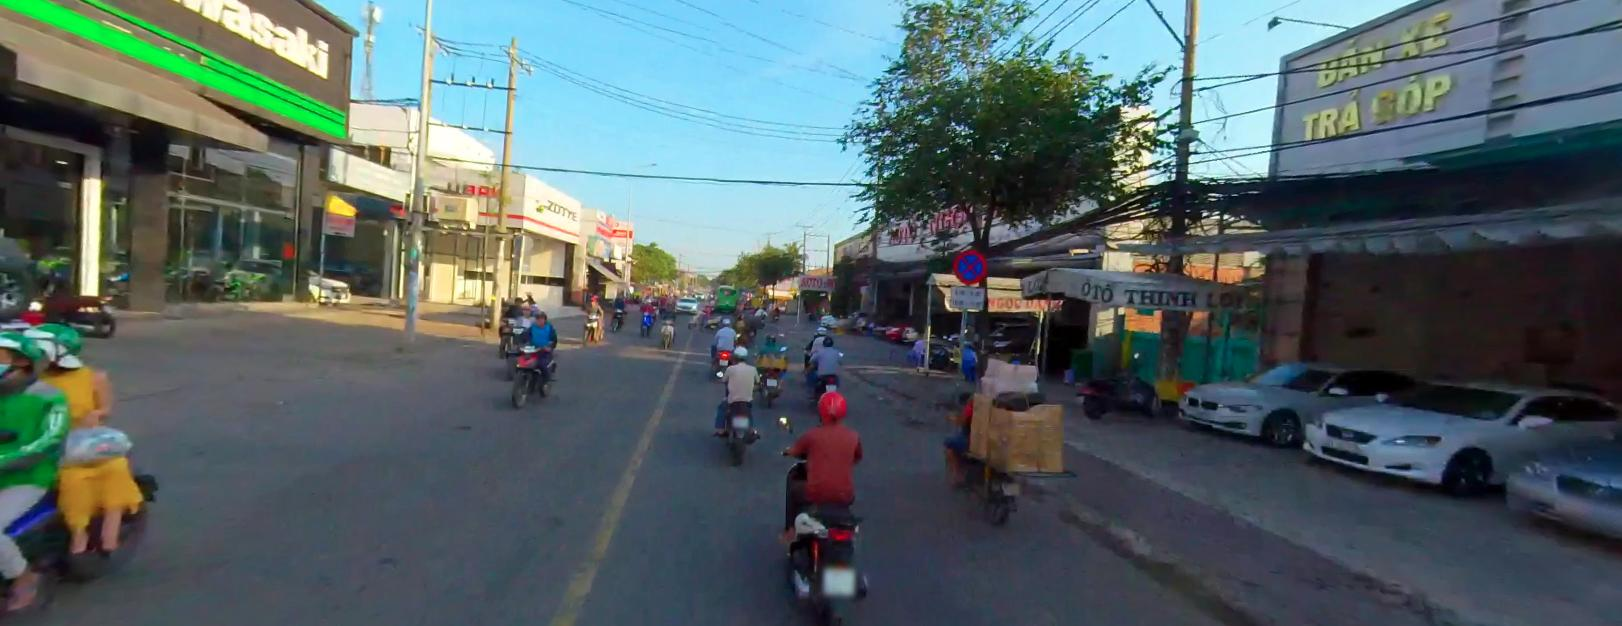Cam dung va do: (953, 248, 986, 284)
